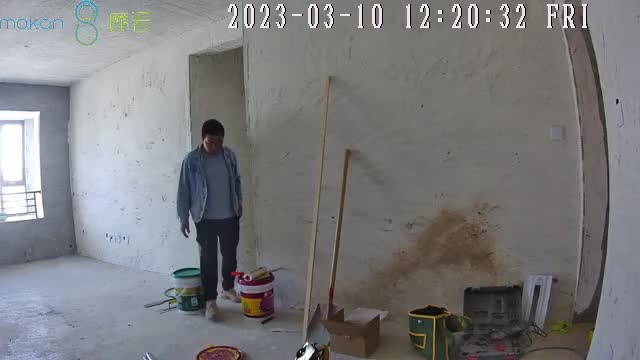people: (175, 119, 242, 319)
window: (1, 119, 28, 215)
